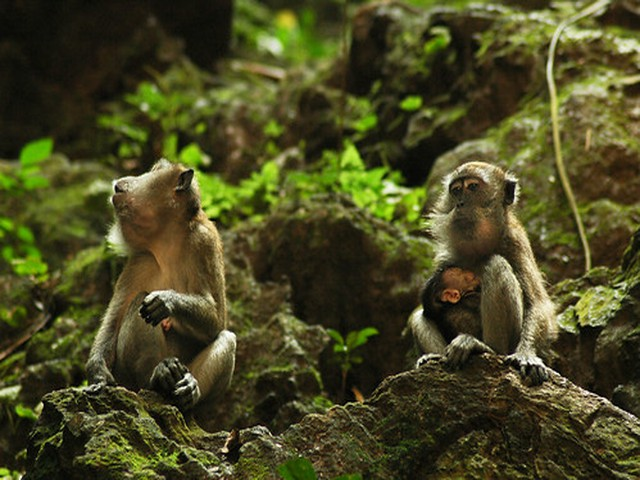Monkey: (90, 157, 240, 405), (403, 156, 557, 378)
